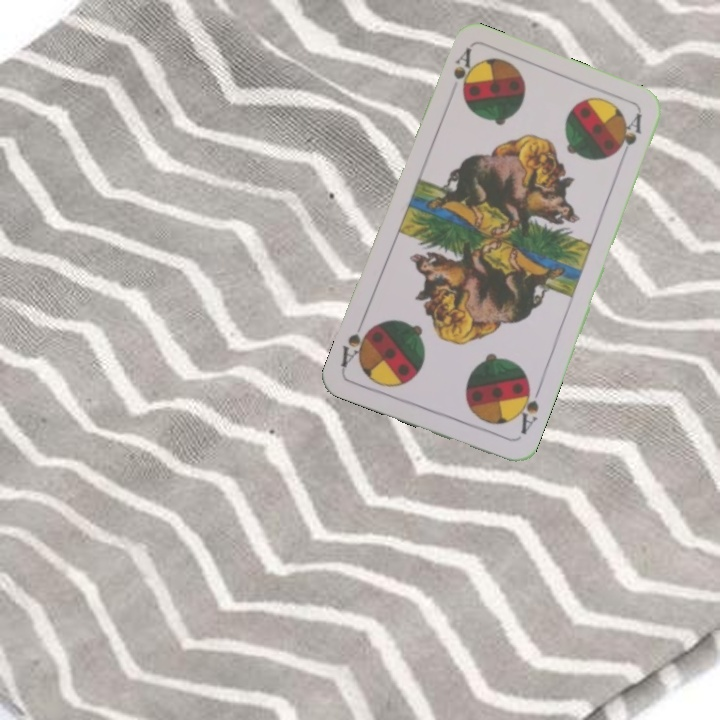SA: (510, 379, 544, 438), (449, 45, 476, 98)
